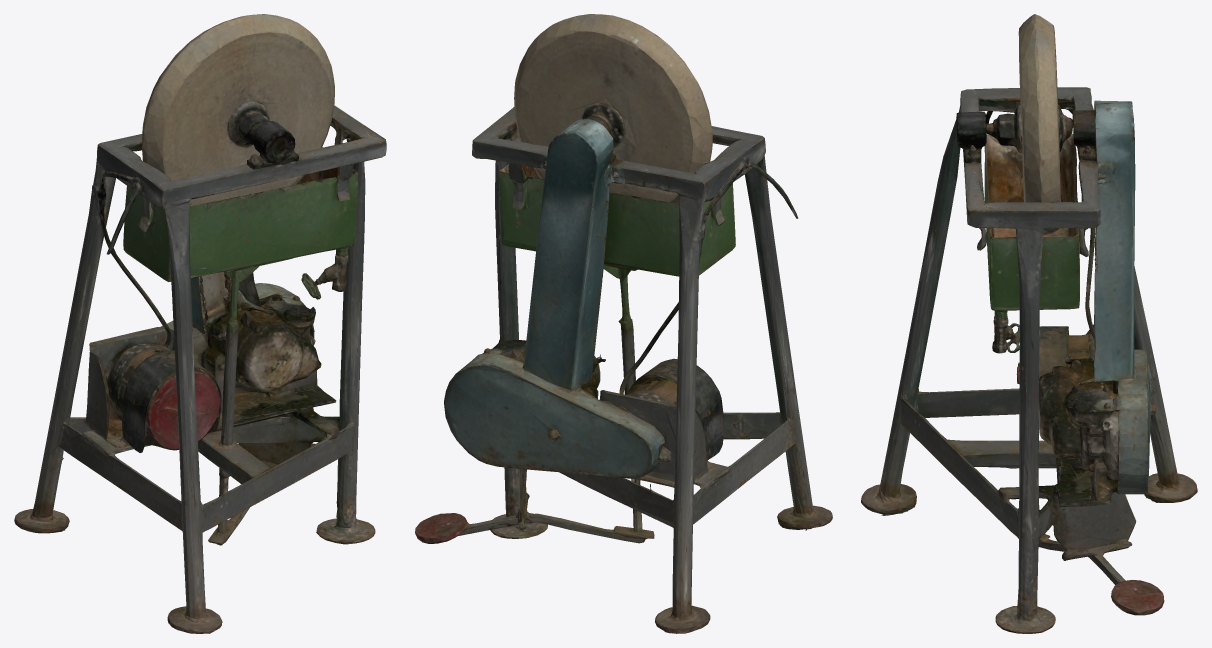
Rendered from 4FC68312-294A-C841-8DBE-B5C0DD6C8F26_512.glb.
3 views of the same model, side by side, from view 1: azimuth 30°, elevation 25°; view 2: azimuth 150°, elevation 25°; view 3: azimuth 270°, elevation 25° (orthographic).
Parts seen in each view (by area): view 1: Schleifmaschine_47k_0.5k; view 2: Schleifmaschine_47k_0.5k; view 3: Schleifmaschine_47k_0.5k.
Part boxes in pixels (left/top/right/bottom): Schleifmaschine_47k_0.5k: left=14, top=14, right=386, bottom=633; Schleifmaschine_47k_0.5k: left=415, top=14, right=832, bottom=633; Schleifmaschine_47k_0.5k: left=861, top=14, right=1197, bottom=633.
Bounding box in the file's own units: 0.6122 × 1.04 × 0.5772.
1 material, 1 textured.
